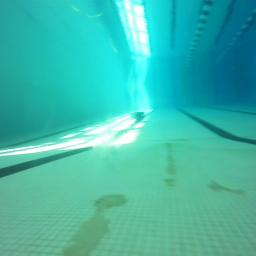Full: (132, 112, 146, 123)
